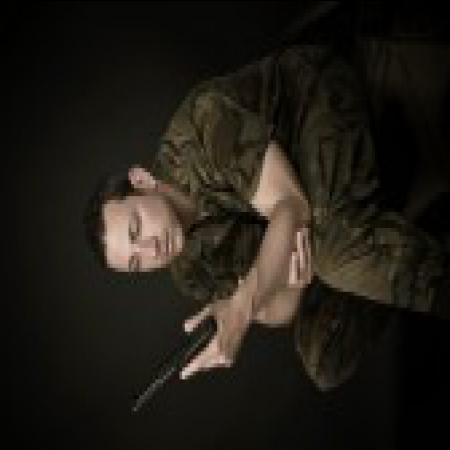Pistol: (124, 302, 214, 406)
